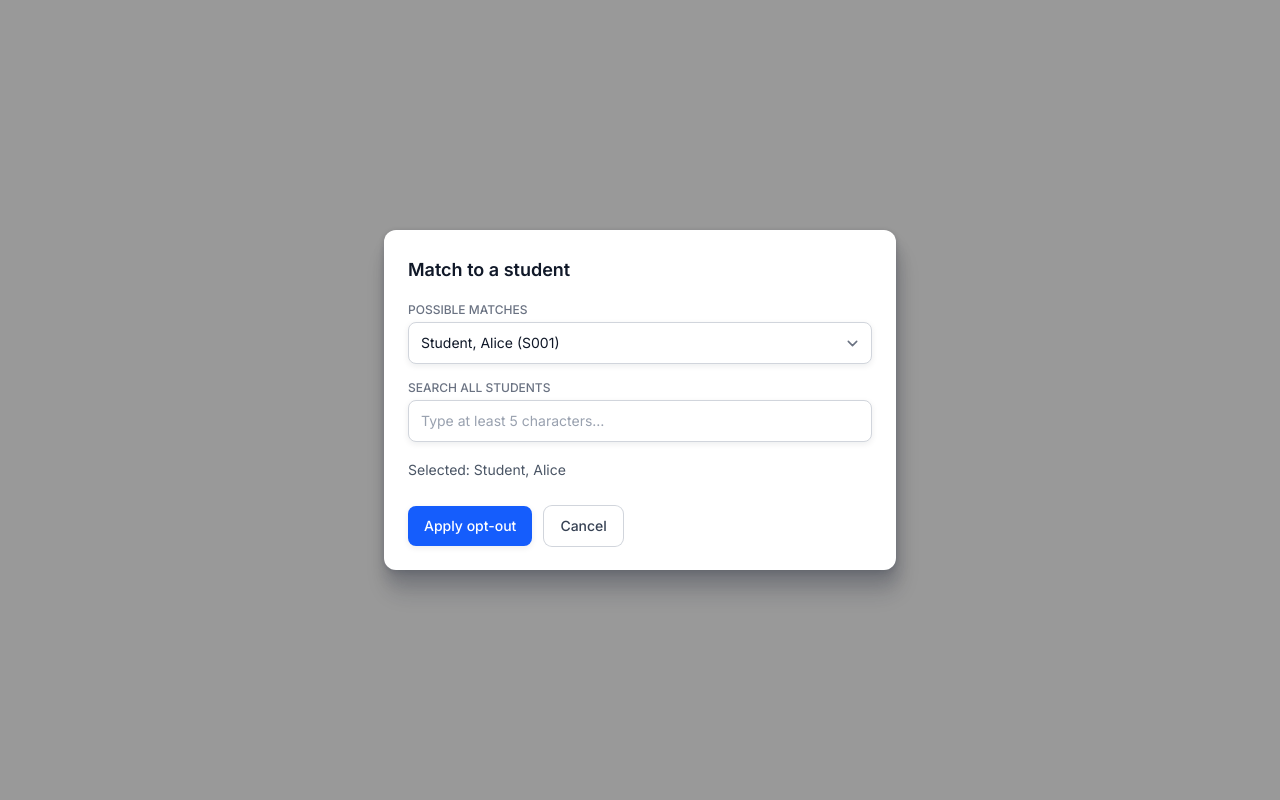
it: MatchStudentDialog › with allowNew: false › shows the error returned by the action
Click the button "Apply opt-out" at (470, 526), box x1=408 y1=506 x2=532 y2=546
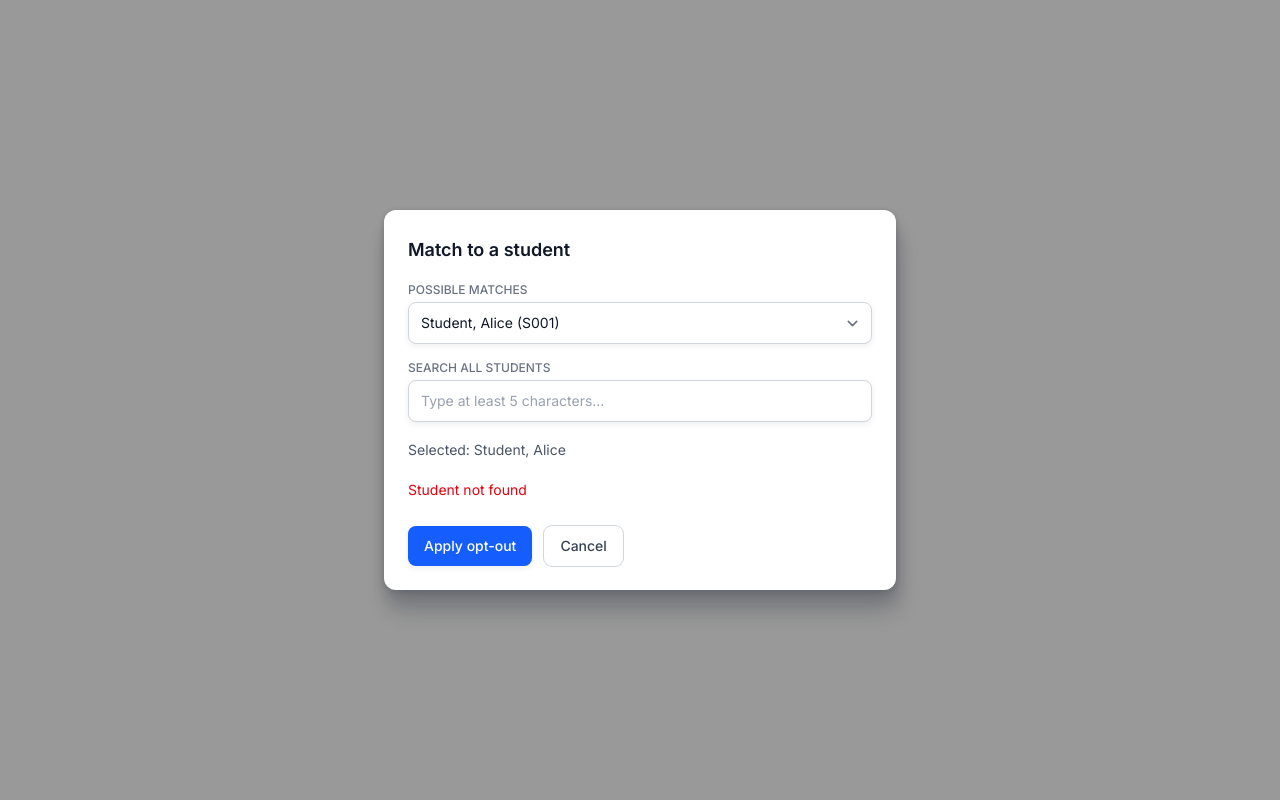
Check: the message reads "Student not found", box x1=408 y1=481 x2=527 y2=498
